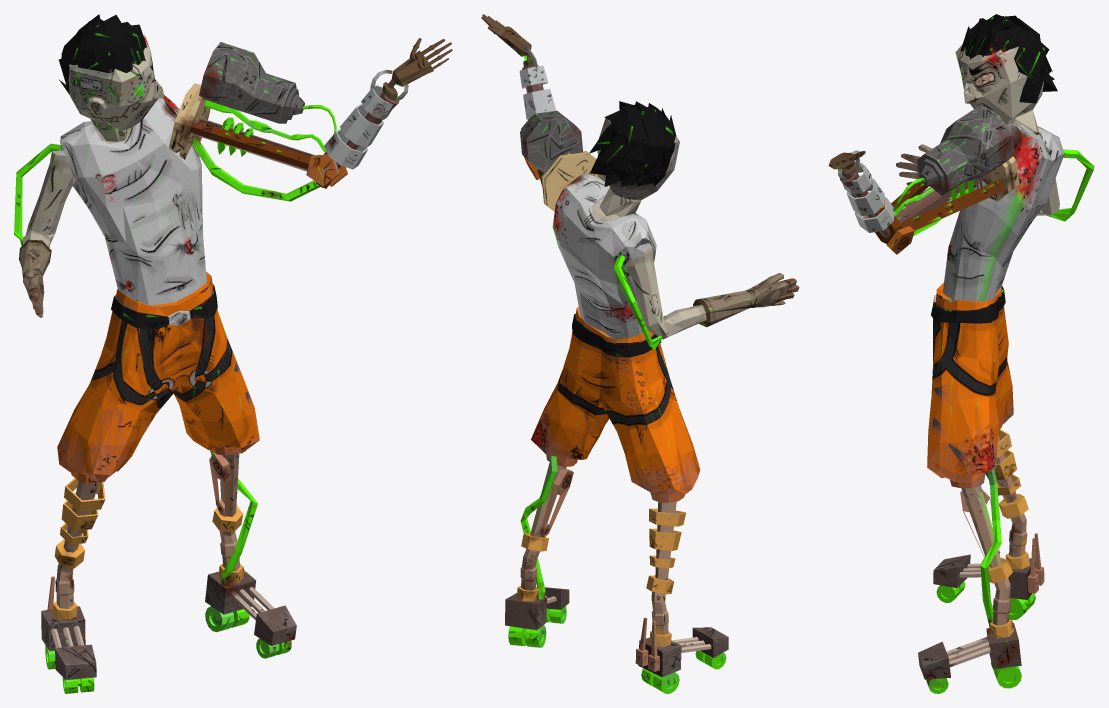
File: CyborgFINALAnimation_000051.obj
3 renders of one model, left to right at view 1: azimuth 30°, elevation 25°; view 2: azimuth 150°, elevation 25°; view 3: azimuth 270°, elevation 25°, orthographic. The views are drawn at different scales.
Parts seen in each view (by area): view 1: CyborgMesh_Cube.002; view 2: CyborgMesh_Cube.002; view 3: CyborgMesh_Cube.002.
Part boxes in pixels (x1,y1,x2,y2): CyborgMesh_Cube.002: [14, 14, 452, 693]; CyborgMesh_Cube.002: [481, 14, 799, 693]; CyborgMesh_Cube.002: [828, 14, 1094, 693].
Size of the model in its own units: 5.99 by 9.55 by 3.75.
